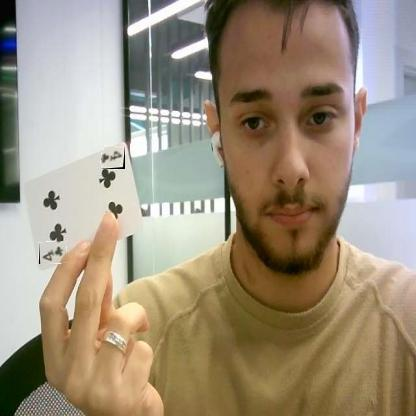4C: (39, 242, 67, 264), (101, 146, 125, 169)
